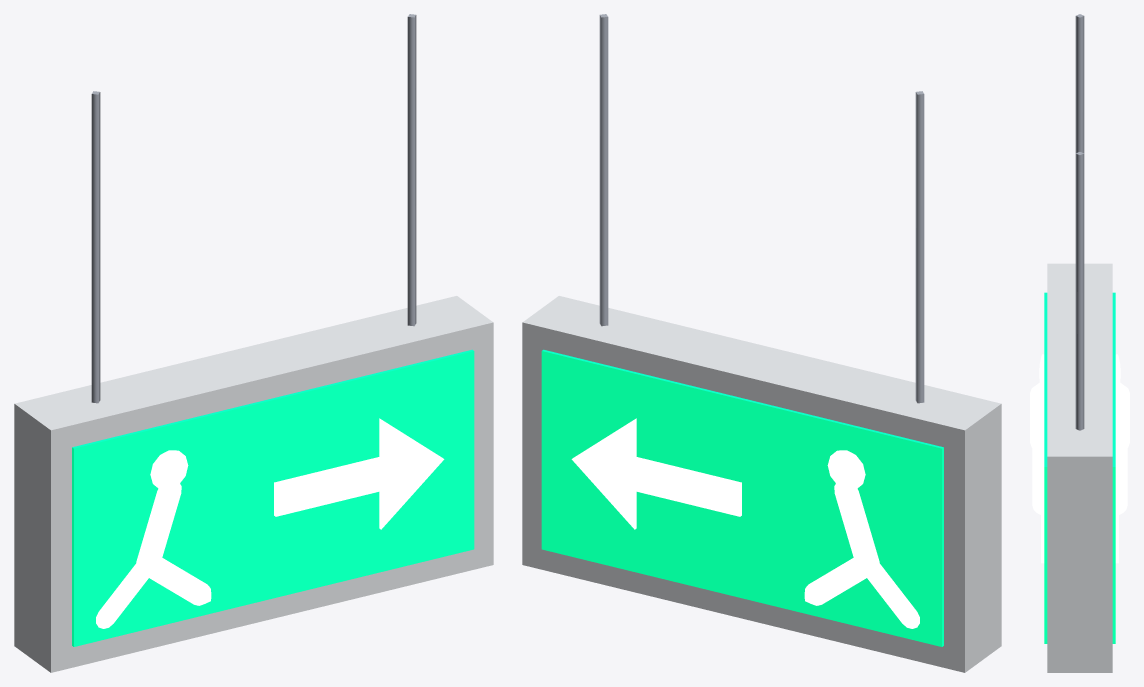
File: ame-011.glb
The picture shows the model from 3 angles, left to right: view 1: azimuth 30°, elevation 25°; view 2: azimuth 150°, elevation 25°; view 3: azimuth 270°, elevation 25°; orthographic projection. The views are drawn at different scales.
Parts seen in each view (by area): view 1: exit_green, white, display_white, steel; view 2: exit_green, white, display_white, steel; view 3: white, display_white, steel, exit_green.
Part boxes in pixels (x1,y1,x2,y2): exit_green: (72, 349, 474, 646); white: (14, 296, 493, 672); display_white: (96, 418, 444, 628); steel: (91, 14, 416, 403); exit_green: (541, 349, 943, 646); white: (522, 296, 1001, 672); display_white: (571, 418, 919, 628); steel: (599, 14, 924, 403); white: (1047, 263, 1112, 672); display_white: (1030, 354, 1129, 563); steel: (1075, 14, 1084, 430); exit_green: (1044, 292, 1115, 643).
Bounding box in the file's own units: 0.42 × 0.5 × 0.092.
